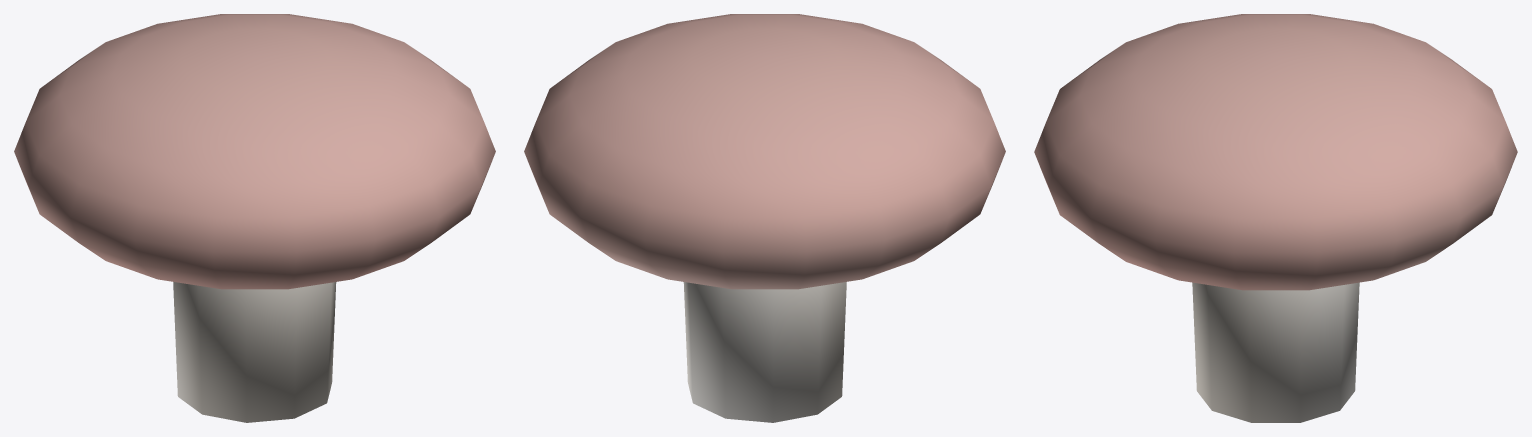
The model's file is mushroom.glb.
The picture shows the model from 3 angles, left to right: view 1: azimuth 30°, elevation 25°; view 2: azimuth 150°, elevation 25°; view 3: azimuth 270°, elevation 25°; orthographic projection.
Visible parts, largest first — view 1: Cap, Stem; view 2: Cap, Stem; view 3: Cap, Stem.
Part boxes in pixels (left/top/right/bottom): Cap: left=14, top=14, right=495, bottom=289; Stem: left=173, top=282, right=336, bottom=422; Cap: left=524, top=14, right=1005, bottom=289; Stem: left=683, top=282, right=846, bottom=422; Cap: left=1034, top=14, right=1517, bottom=290; Stem: left=1192, top=282, right=1359, bottom=422.
Size of the model in its own units: 0.5416 by 0.421 by 0.55.
